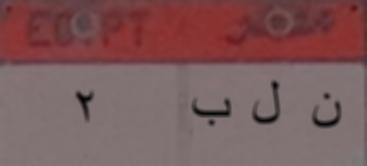2: (72, 84, 99, 126)
baa: (189, 91, 234, 132)
laam: (247, 76, 285, 131)
noon: (308, 90, 346, 134)
